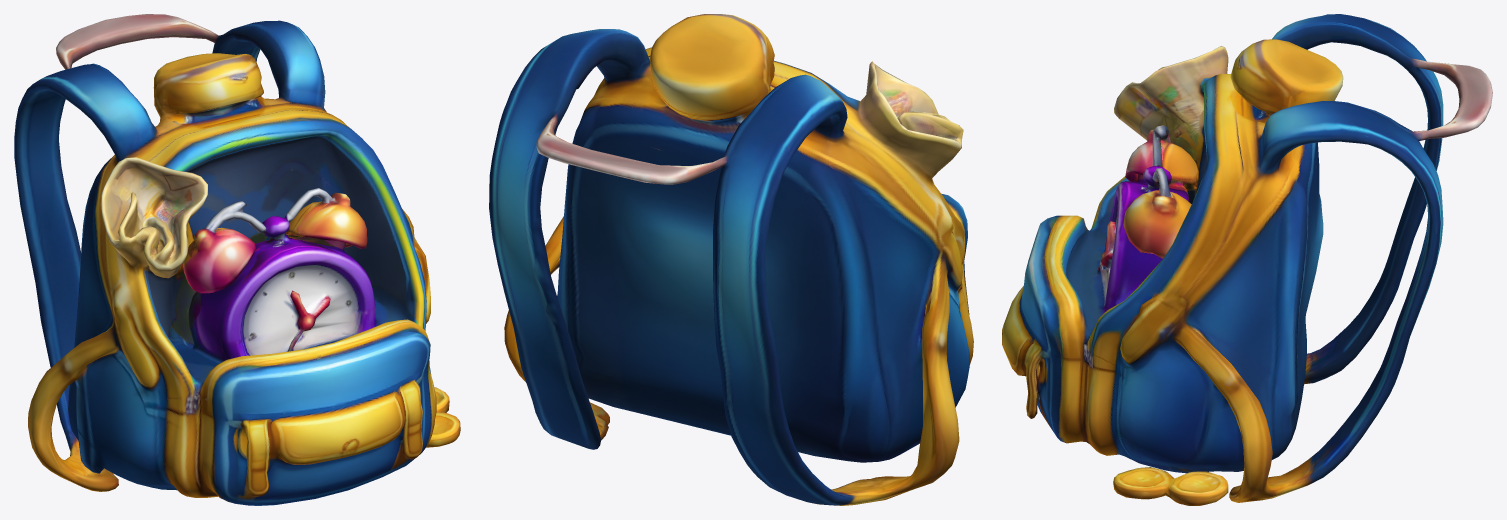
File: Meshy_AI_Time_bag_0227123444_texture.fbx
3 renders of one model, left to right at view 1: azimuth 30°, elevation 25°; view 2: azimuth 150°, elevation 25°; view 3: azimuth 270°, elevation 25°, orthographic. The views are drawn at different scales.
Parts seen in each view (by area): view 1: Mesh_0; view 2: Mesh_0; view 3: Mesh_0.
Boxes of the visible parts, box(x1,y1,x2,y2) form: Mesh_0: box(14, 14, 460, 505); Mesh_0: box(489, 14, 973, 505); Mesh_0: box(1002, 14, 1492, 505).
Bounding box in the file's own units: 174 × 167 × 190.
Materials: 1 (1 with a texture image).
